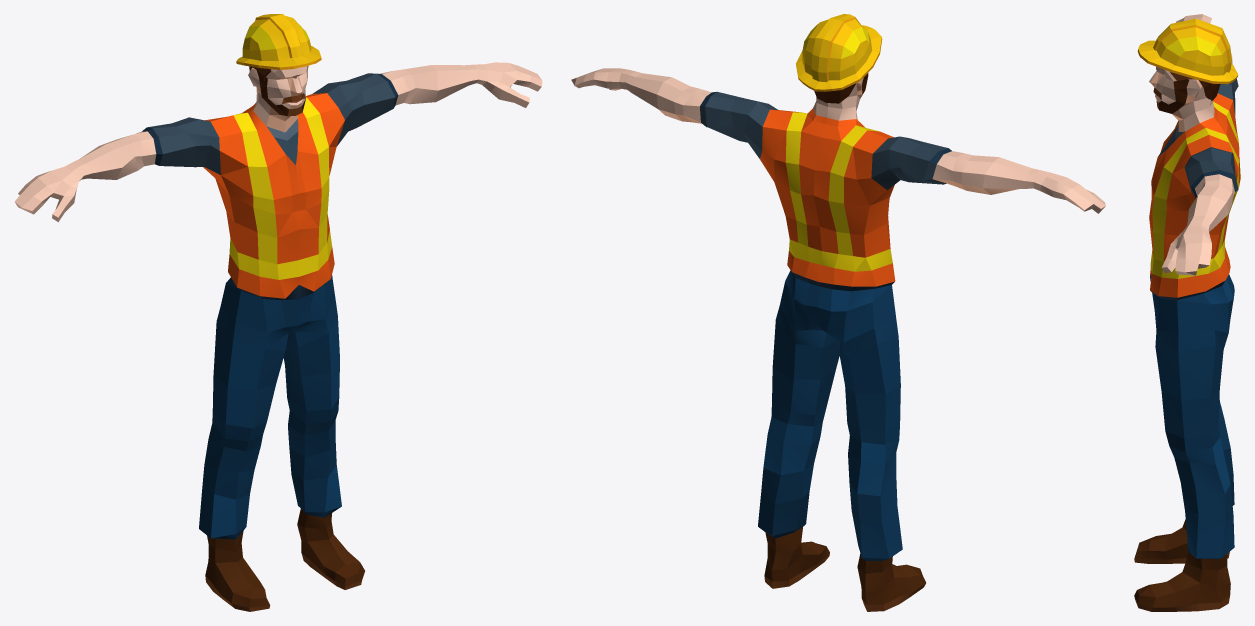
The model's file is worker_Male_constructor_A-model.obj.
3 renders of one model, left to right at view 1: azimuth 30°, elevation 25°; view 2: azimuth 150°, elevation 25°; view 3: azimuth 270°, elevation 25°, orthographic.
Visible parts, largest first — view 1: worker_Male_constructor_A; view 2: worker_Male_constructor_A; view 3: worker_Male_constructor_A.
Part boxes in pixels (x1,y1,x2,y2): worker_Male_constructor_A: [14, 14, 542, 611]; worker_Male_constructor_A: [571, 14, 1105, 611]; worker_Male_constructor_A: [1134, 14, 1240, 611].
Bounding box in the file's own units: 175 × 180 × 30.98.
